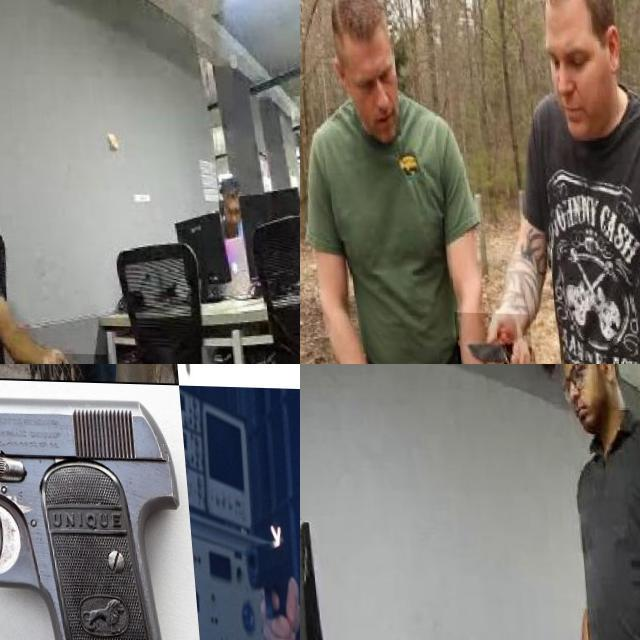-: (447, 310, 527, 364), (46, 351, 102, 364)
gun-knife-thesis - v11 Yolov5 augmented: (0, 379, 182, 640), (155, 364, 300, 527), (225, 512, 292, 640), (0, 364, 57, 436)
